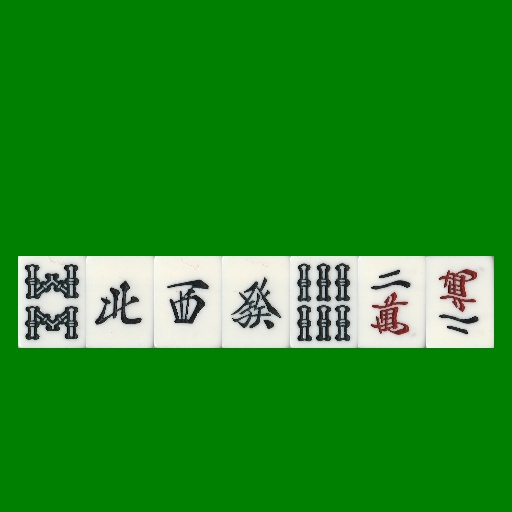2m: (358, 256, 426, 348), (426, 256, 494, 348)
6s: (290, 256, 358, 348)
8s: (18, 256, 86, 348)
hatsu: (222, 256, 290, 348)
north: (86, 256, 154, 348)
west: (154, 256, 222, 348)
